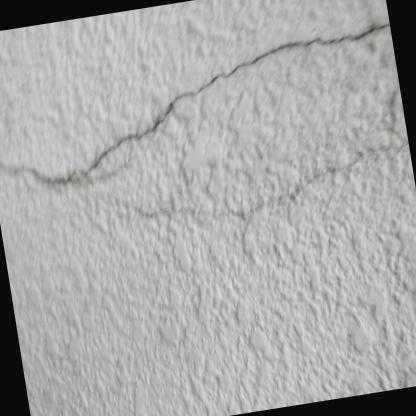crack: (35, 16, 391, 188)
